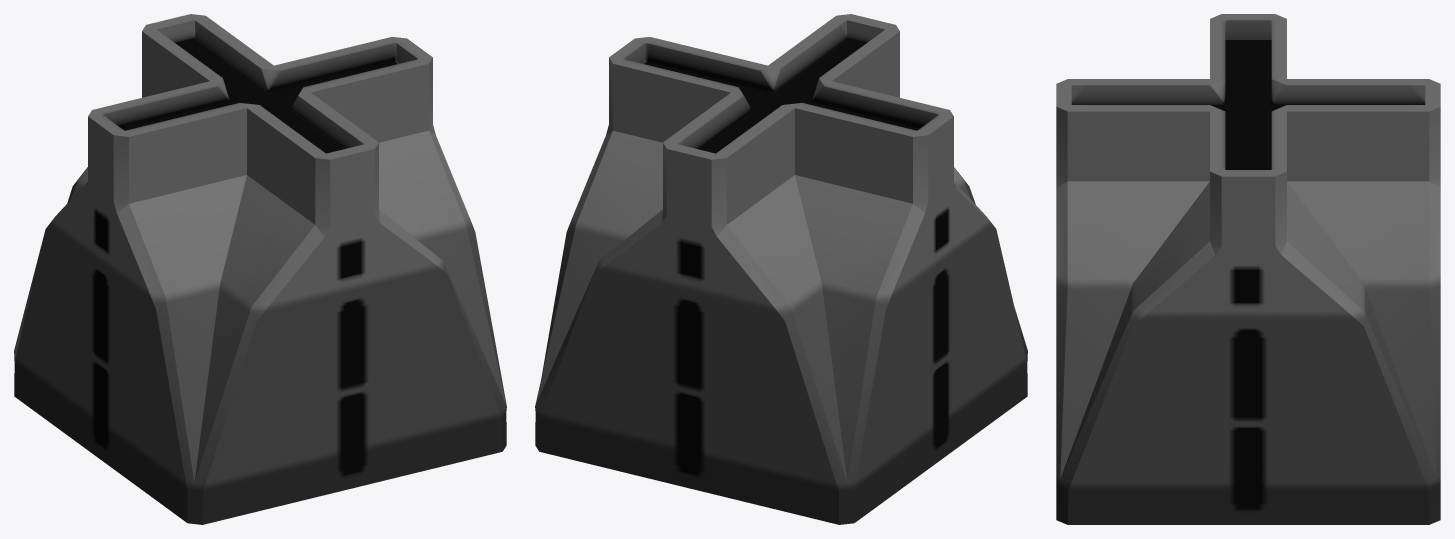
The model's file is wall_double_one_cross1.fbx.
3 views of the same model, side by side, from view 1: azimuth 30°, elevation 25°; view 2: azimuth 150°, elevation 25°; view 3: azimuth 270°, elevation 25° (orthographic). The views are drawn at different scales.
Parts seen in each view (by area): view 1: wall_double_one_cross1; view 2: wall_double_one_cross1; view 3: wall_double_one_cross1.
Boxes of the visible parts, x1,y1,x2,y2 form: wall_double_one_cross1: [14, 14, 506, 524]; wall_double_one_cross1: [535, 14, 1027, 524]; wall_double_one_cross1: [1056, 14, 1440, 524].
Size of the model in its own units: 1 by 1 by 1.
1 material, 1 textured.
